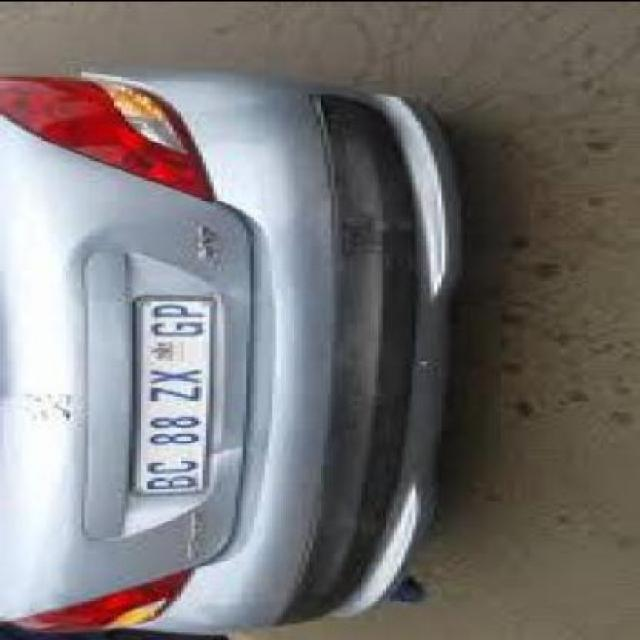damage: (51, 215, 131, 296), (205, 433, 257, 457)
